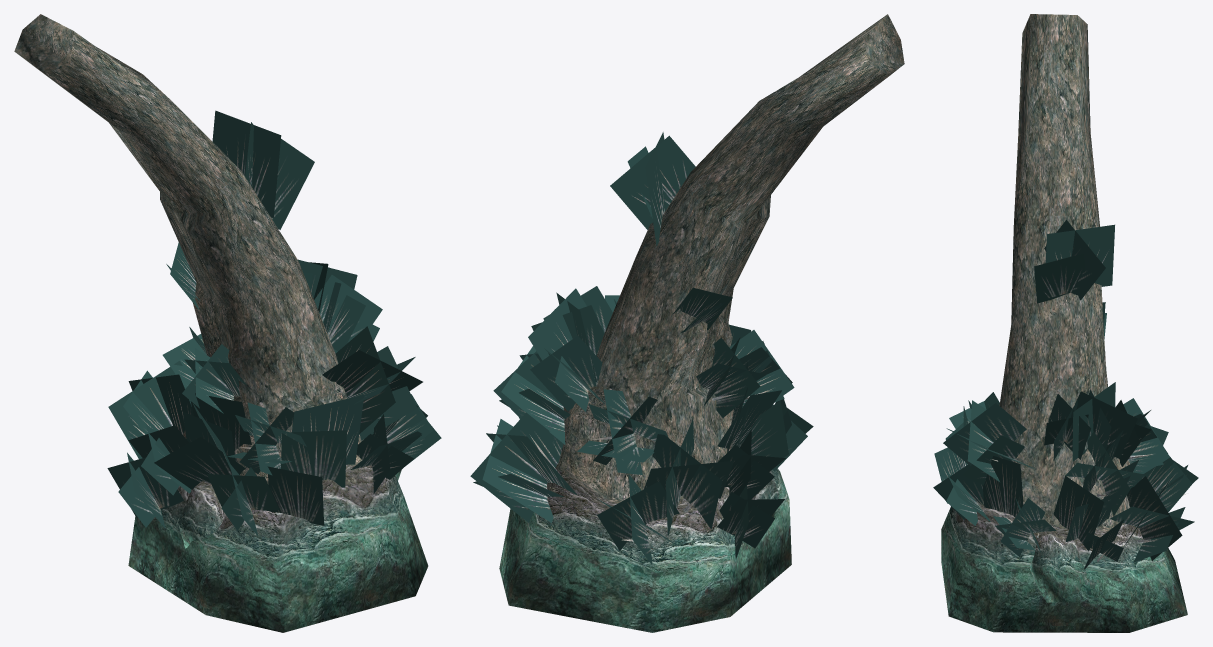
File: rock_crystl_arch_half_med_l1.fbx
The picture shows the model from 3 angles, left to right: view 1: azimuth 30°, elevation 25°; view 2: azimuth 150°, elevation 25°; view 3: azimuth 270°, elevation 25°; orthographic projection. The views are drawn at different scales.
Parts seen in each view (by area): view 1: mesh_node; view 2: mesh_node; view 3: mesh_node.
Boxes of the visible parts, bbox=[...] form: mesh_node: bbox=[14, 14, 441, 632]; mesh_node: bbox=[470, 14, 904, 632]; mesh_node: bbox=[933, 14, 1198, 632].
Size of the model in its own units: 24.34 by 35.81 by 17.71.
